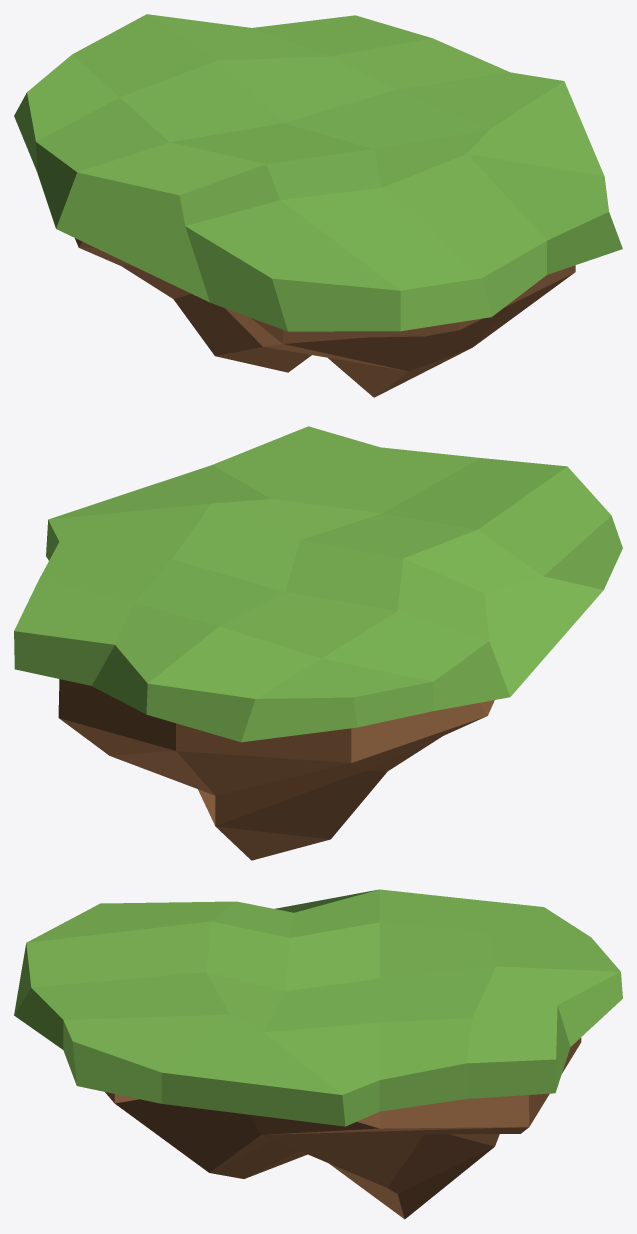
File: plataforma 001 - partida.fbx
3 renders of one model, top to bottom at view 1: azimuth 30°, elevation 25°; view 2: azimuth 150°, elevation 25°; view 3: azimuth 270°, elevation 25°, orthographic. The views are drawn at different scales.
Parts seen in each view (by area): view 1: topo.001, base.001; view 2: topo.001, base.001; view 3: topo.001, base.001.
Part boxes in pixels (x1,y1,x2,y2): topo.001: (14,14,622,331); base.001: (75,238,575,397); topo.001: (14,426,622,742); base.001: (58,679,494,860); topo.001: (14,889,622,1126); base.001: (105,1037,581,1219).
Bounding box in the file's own units: 333 × 184 × 410.
